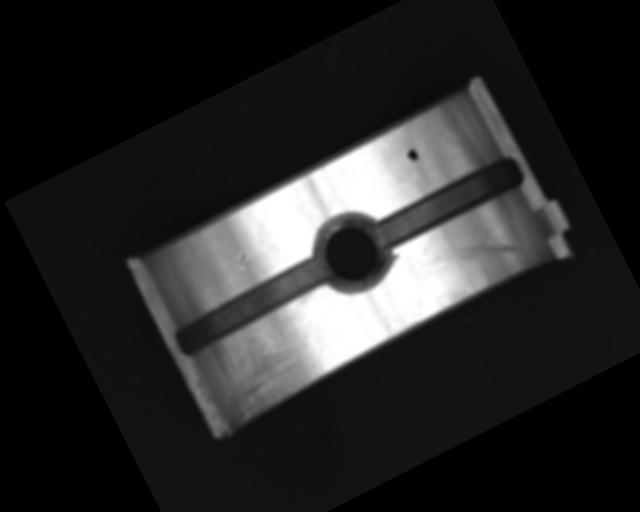blot: (404, 146, 421, 165)
bruise: (230, 248, 255, 273)
gap: (166, 252, 336, 363), (369, 151, 528, 254)
hole: (302, 202, 404, 303)
nick: (415, 206, 536, 305)
scratch: (197, 292, 349, 428)
